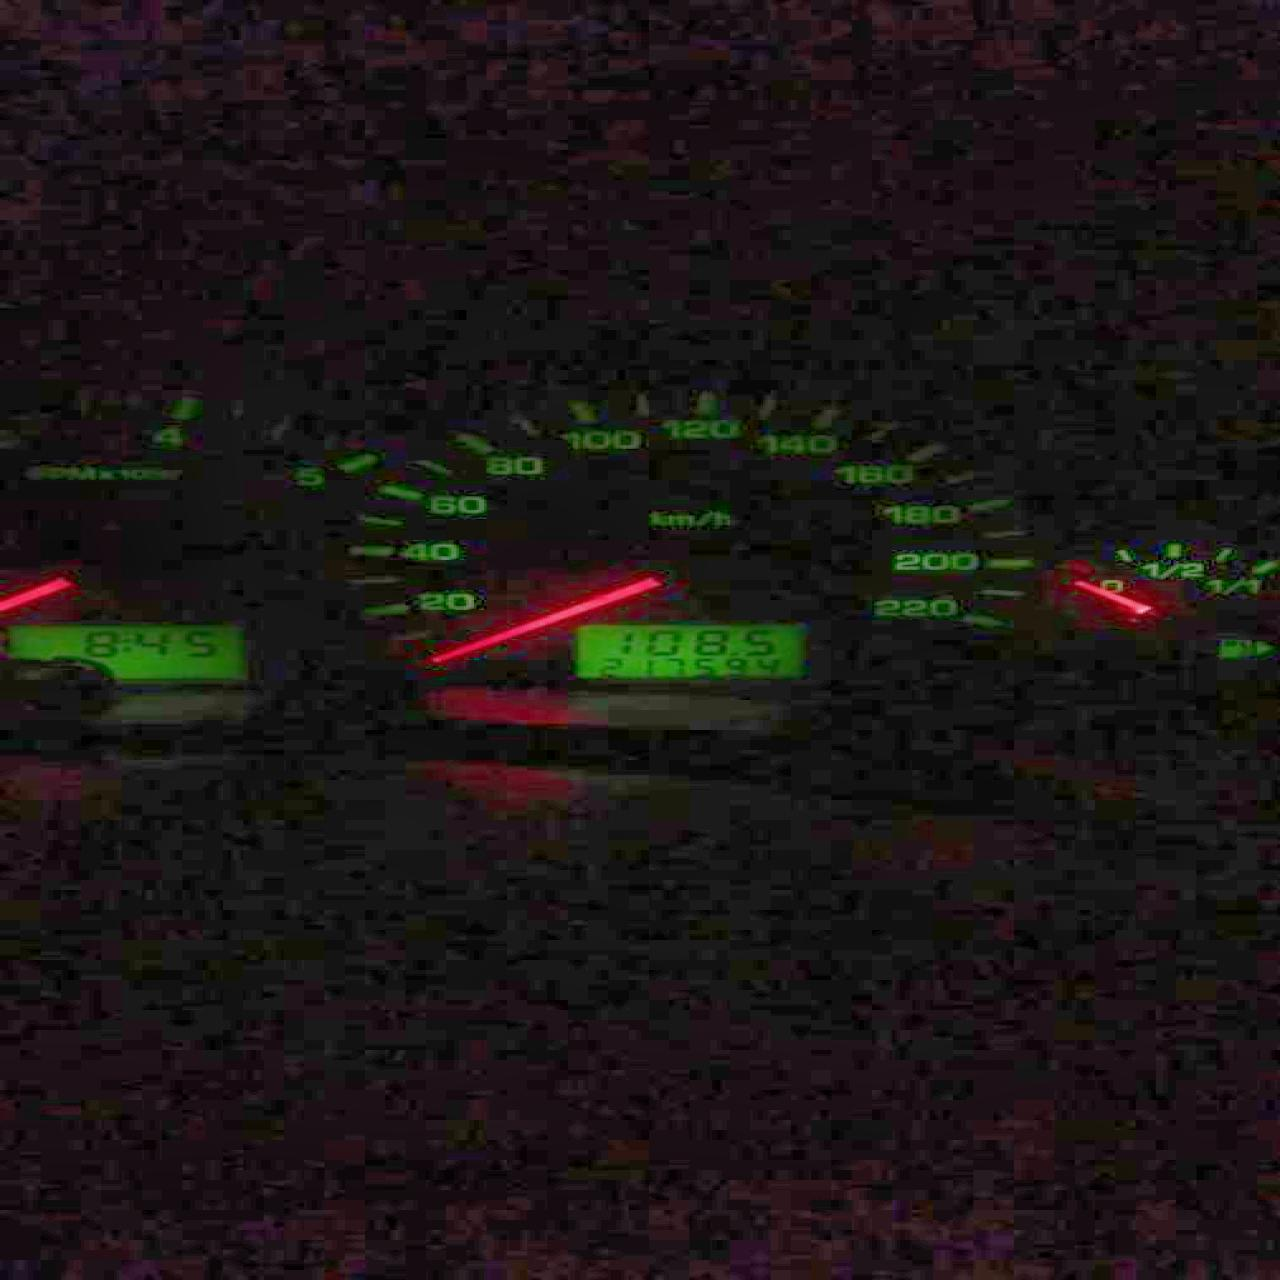0: (641, 629, 680, 655)
1: (619, 629, 633, 654), (644, 658, 654, 678)
2: (598, 658, 621, 676)
4: (753, 658, 778, 676)
5: (740, 629, 772, 655), (692, 658, 713, 676)
7: (663, 656, 685, 675)
8: (692, 629, 727, 655)
9: (722, 658, 748, 676)
odometer: (570, 621, 805, 680)
